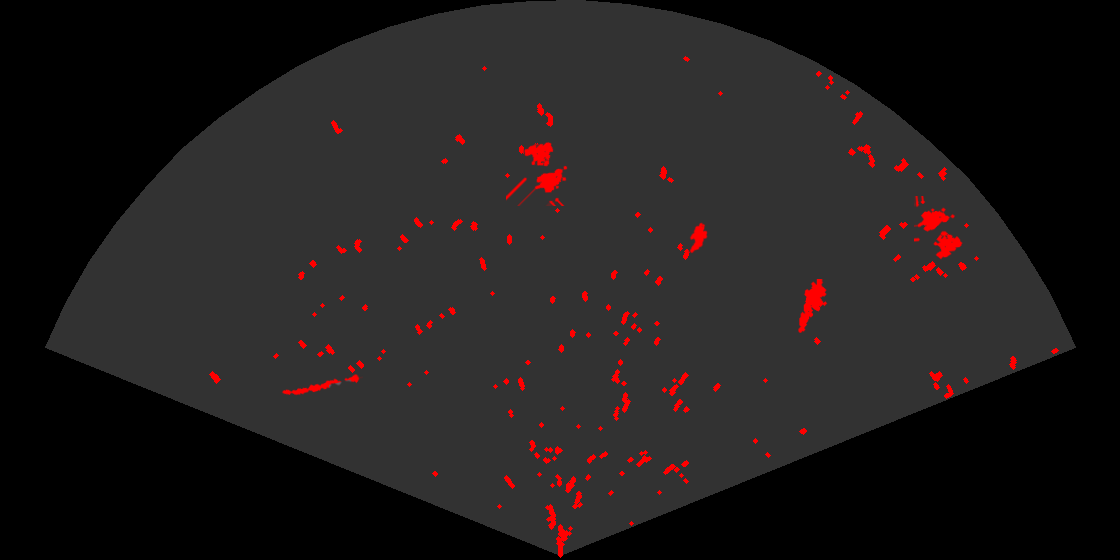AUV: (688, 221, 709, 255)
cage: (506, 140, 569, 206), (914, 196, 964, 261)
chain: (280, 373, 363, 397)
frogman: (797, 279, 829, 333)
